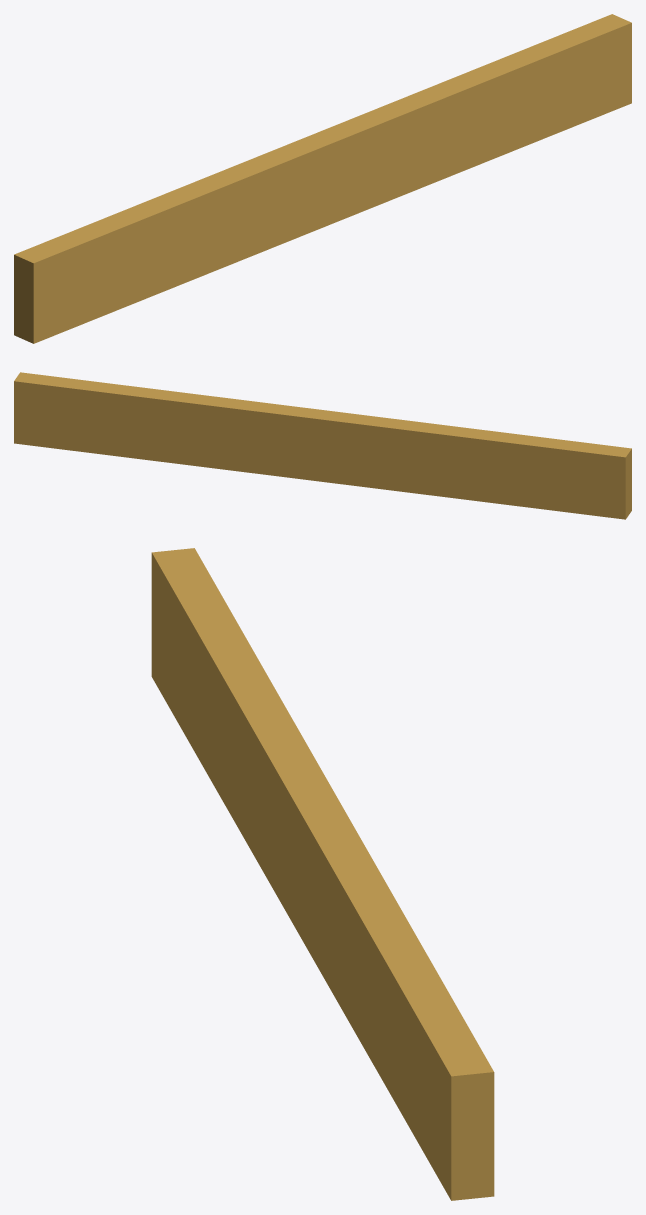
3 renders of one model, top to bottom at view 1: azimuth 30°, elevation 25°; view 2: azimuth 150°, elevation 25°; view 3: azimuth 270°, elevation 25°, orthographic. The views are drawn at different scales.
Visible parts, largest first — view 1: GAP-12-LINTEL-0; view 2: GAP-12-LINTEL-0; view 3: GAP-12-LINTEL-0.
Boxes of the visible parts, bbox=[...] form: GAP-12-LINTEL-0: bbox=[14, 14, 631, 343]; GAP-12-LINTEL-0: bbox=[14, 372, 631, 519]; GAP-12-LINTEL-0: bbox=[151, 548, 494, 1200].
Size of the model in its own units: 1.27 by 0.14 by 0.349.
